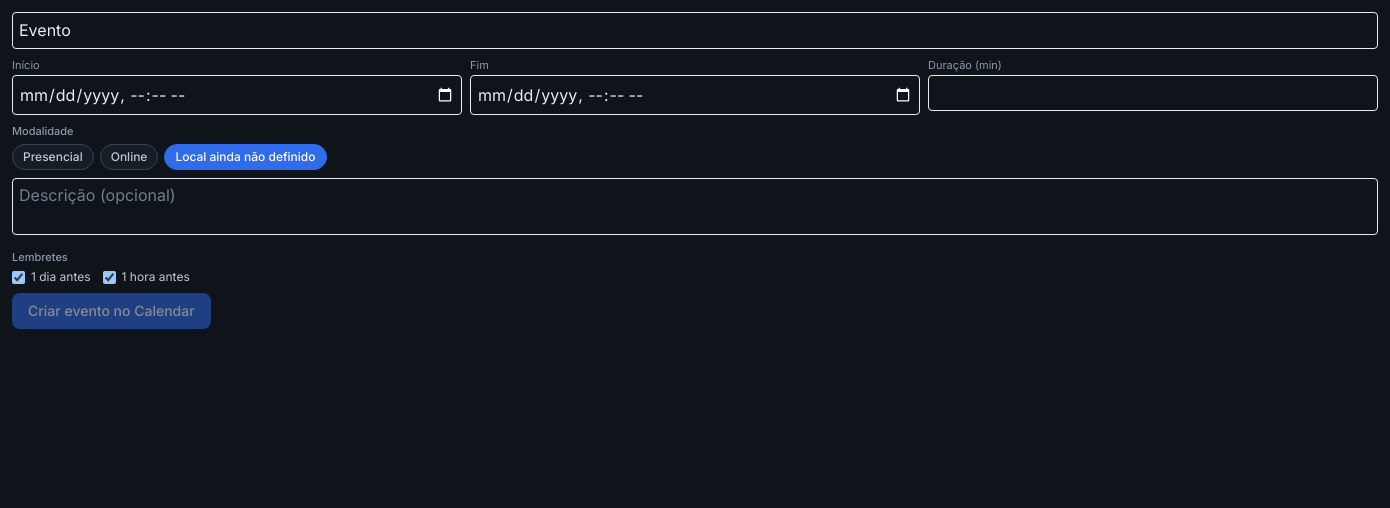
it: CalendarEventCreator — criação manual (sem aiRunId) › término anterior ao início bloqueia a criação com a mensagem exigida
Step 1. Type "2026-08-05T10:00" into the field labelled "Início" → (237, 95), box 12,75 -> 462,115
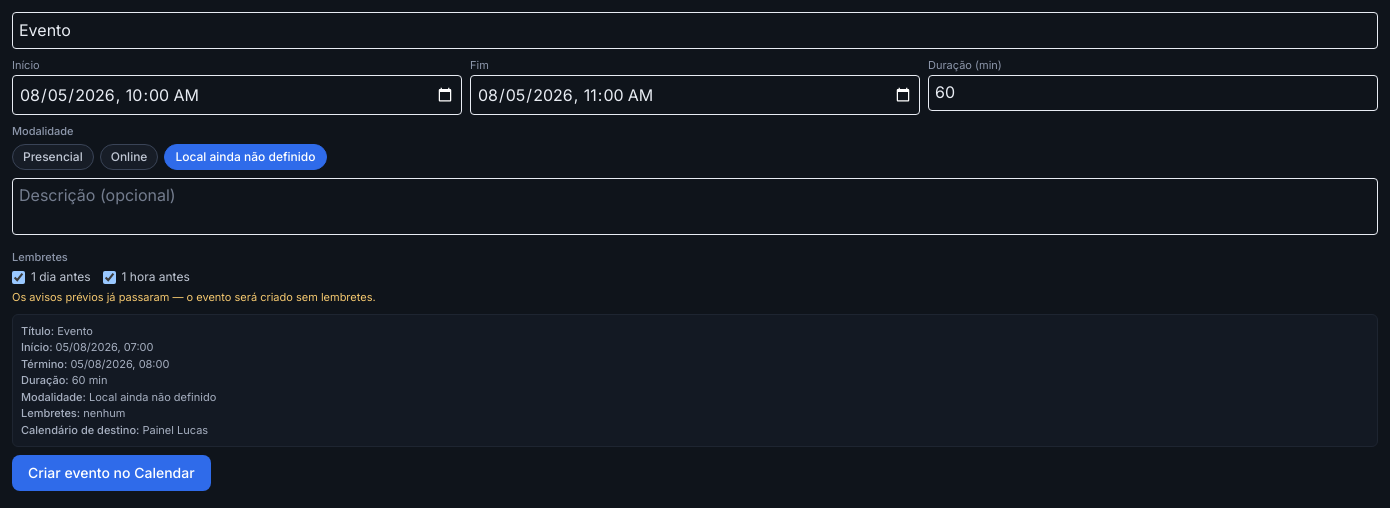
Step 2. Replace the text in the field labelled "Fim" with "2026-08-05T09:00" → (695, 95), box 470,75 -> 920,115
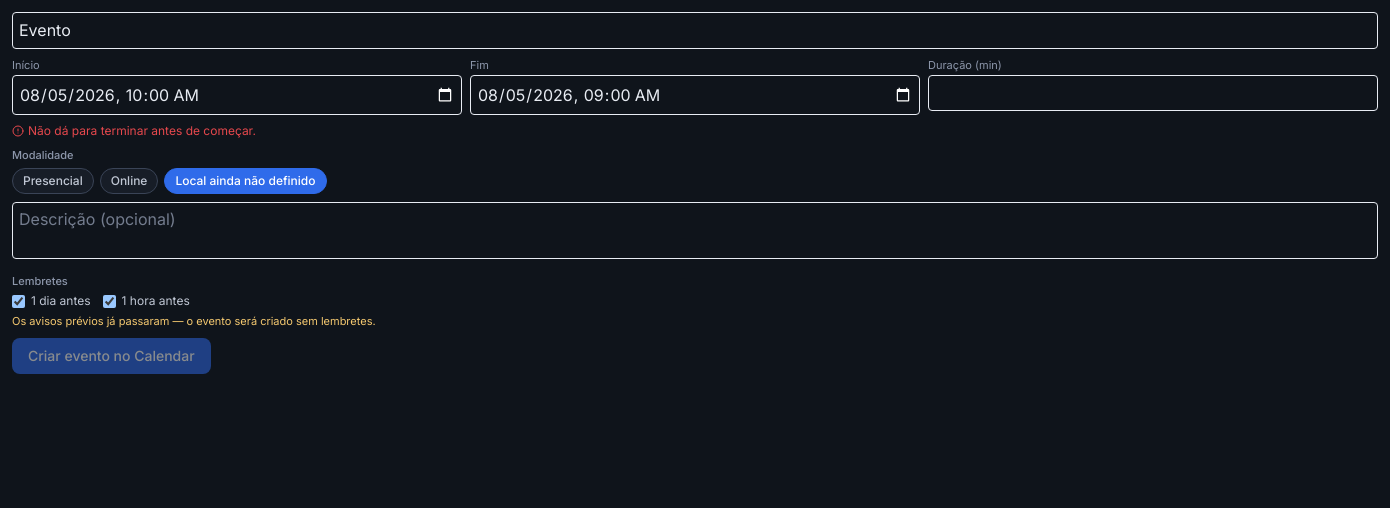
Check: the text "Não dá para terminar antes de começar." is shown, box 12,123 -> 256,138
Check: the button "Criar evento no Calendar" is disabled, box 12,338 -> 211,374
